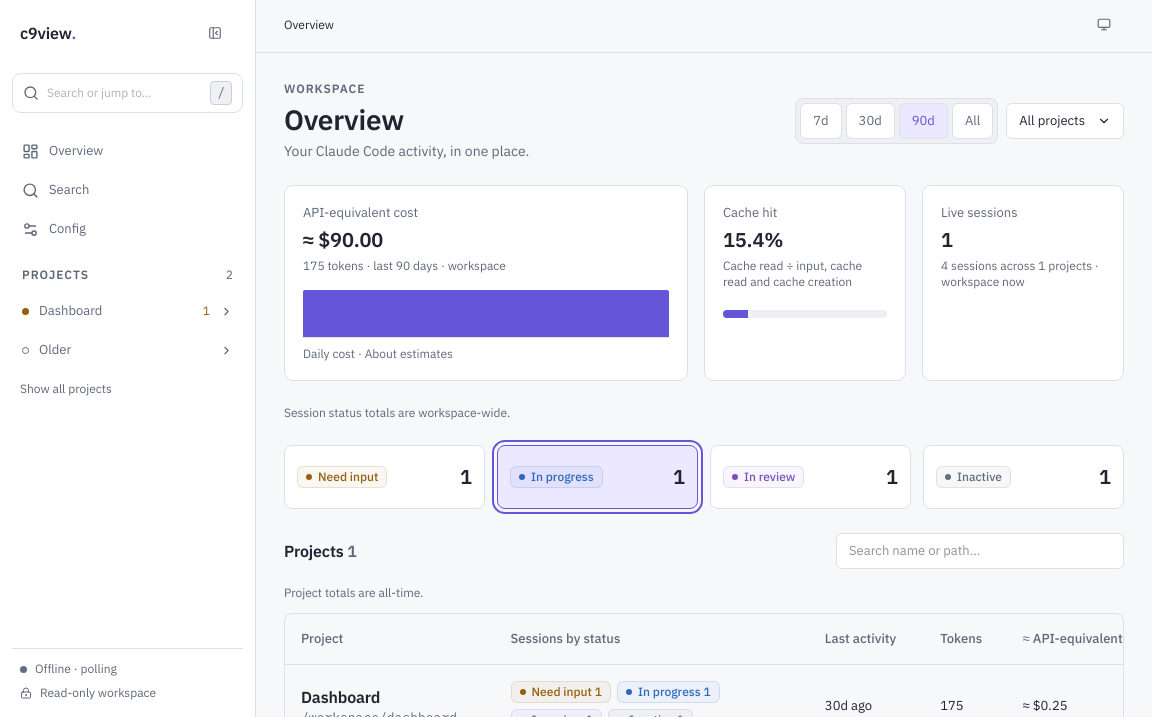
Test case: round-trips the in_progress status and toggles it off with a native keyboard-operable button
Later steps or results of the test are not shown.
Click the button "In progress 1".
click(598, 477)  # box [497, 445, 698, 509]
(page scrolled)
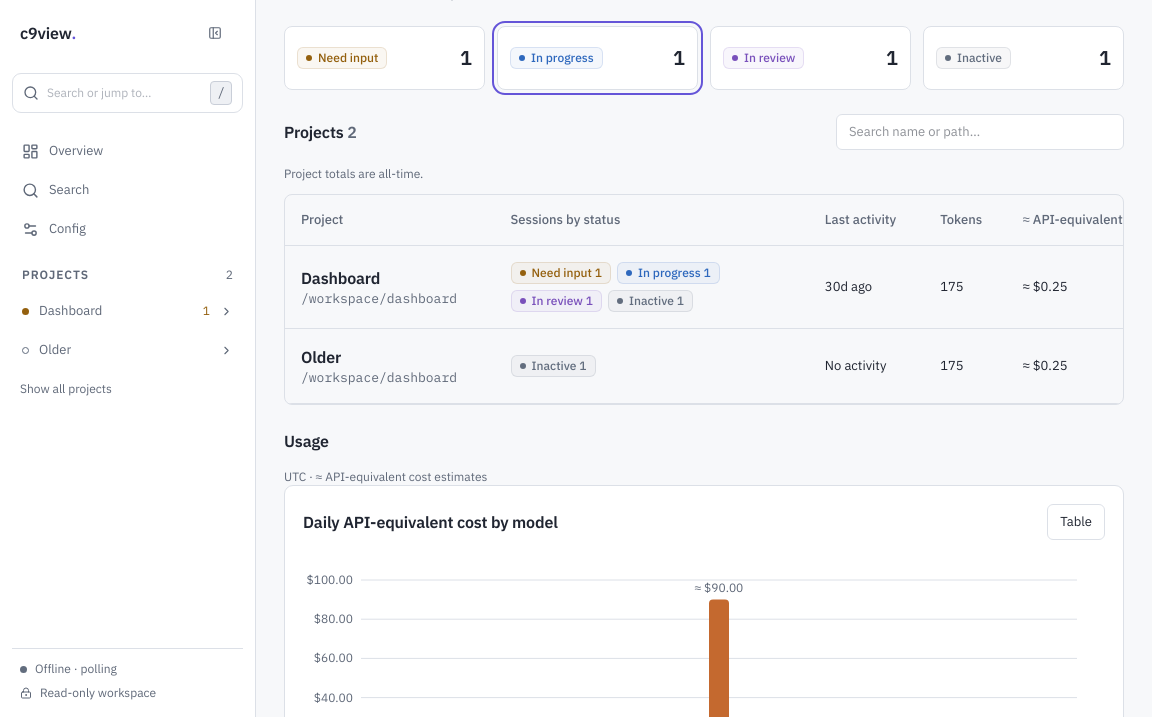
Now the link "Older" in the row of "No activity" is shown, box [301, 347, 341, 367]
